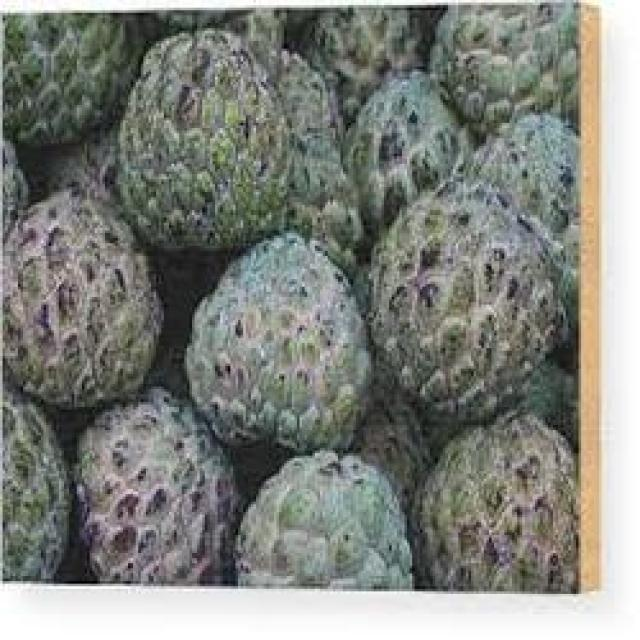apple: (366, 195, 574, 425), (174, 241, 387, 458), (110, 33, 287, 246), (2, 189, 164, 407), (62, 386, 244, 574), (236, 443, 410, 596)
